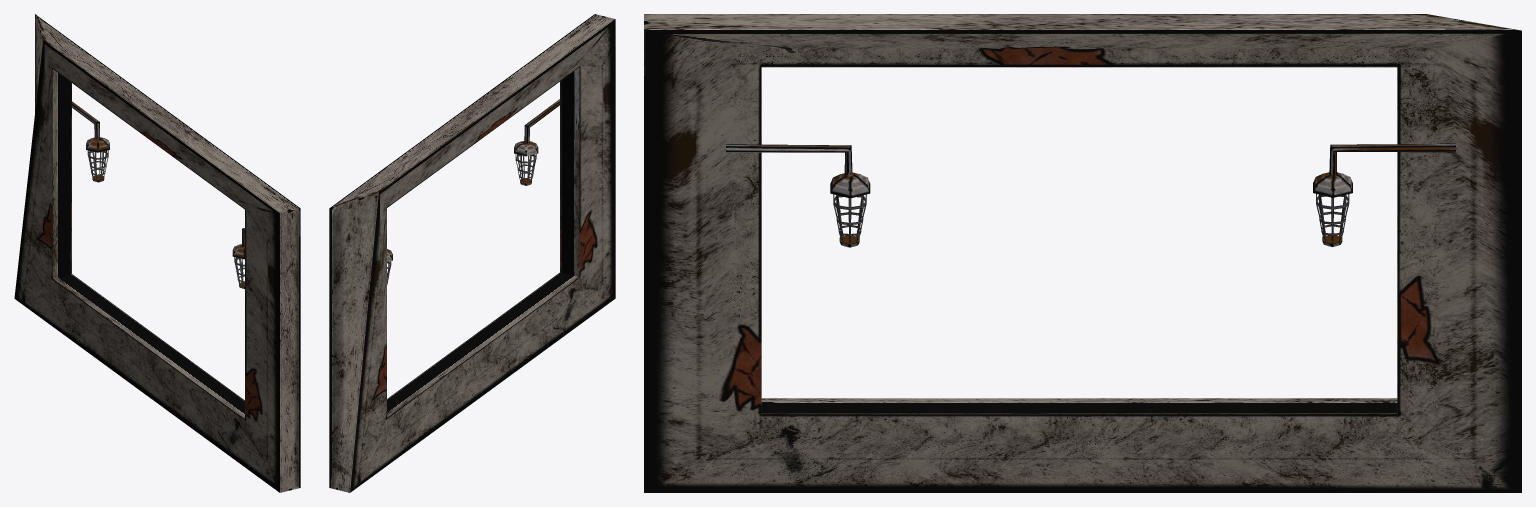
Rendered from Interior_Wall_w_Lamps.fbx.
The picture shows the model from 3 angles, left to right: view 1: azimuth 30°, elevation 25°; view 2: azimuth 150°, elevation 25°; view 3: azimuth 270°, elevation 25°; orthographic projection. The views are drawn at different scales.
Visible parts, largest first — view 1: pCube1, pCylinder22, pCylinder21; view 2: pCube1, pCylinder21; view 3: pCube1, pCylinder21, pCylinder22.
Boxes of the visible parts, x1=… form: pCube1: x1=14, y1=14, x2=300, y2=492; pCylinder22: x1=72, y1=101, x2=109, y2=182; pCylinder21: x1=232, y1=228, x2=244, y2=288; pCube1: x1=329, y1=14, x2=615, y2=492; pCylinder21: x1=514, y1=99, x2=559, y2=185; pCube1: x1=644, y1=14, x2=1521, y2=492; pCylinder21: x1=726, y1=144, x2=870, y2=247; pCylinder22: x1=1313, y1=143, x2=1455, y2=246.
Bounding box in the file's own units: 8.22 × 56.09 × 96.5.
